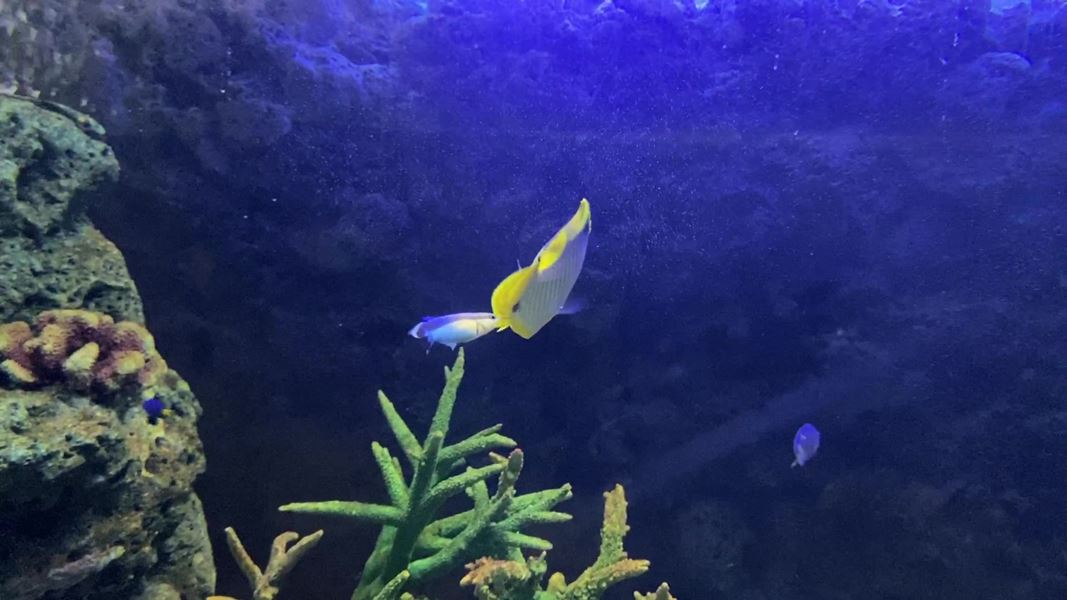Bluesteak cleaner wrasse: (393, 300, 513, 354)
